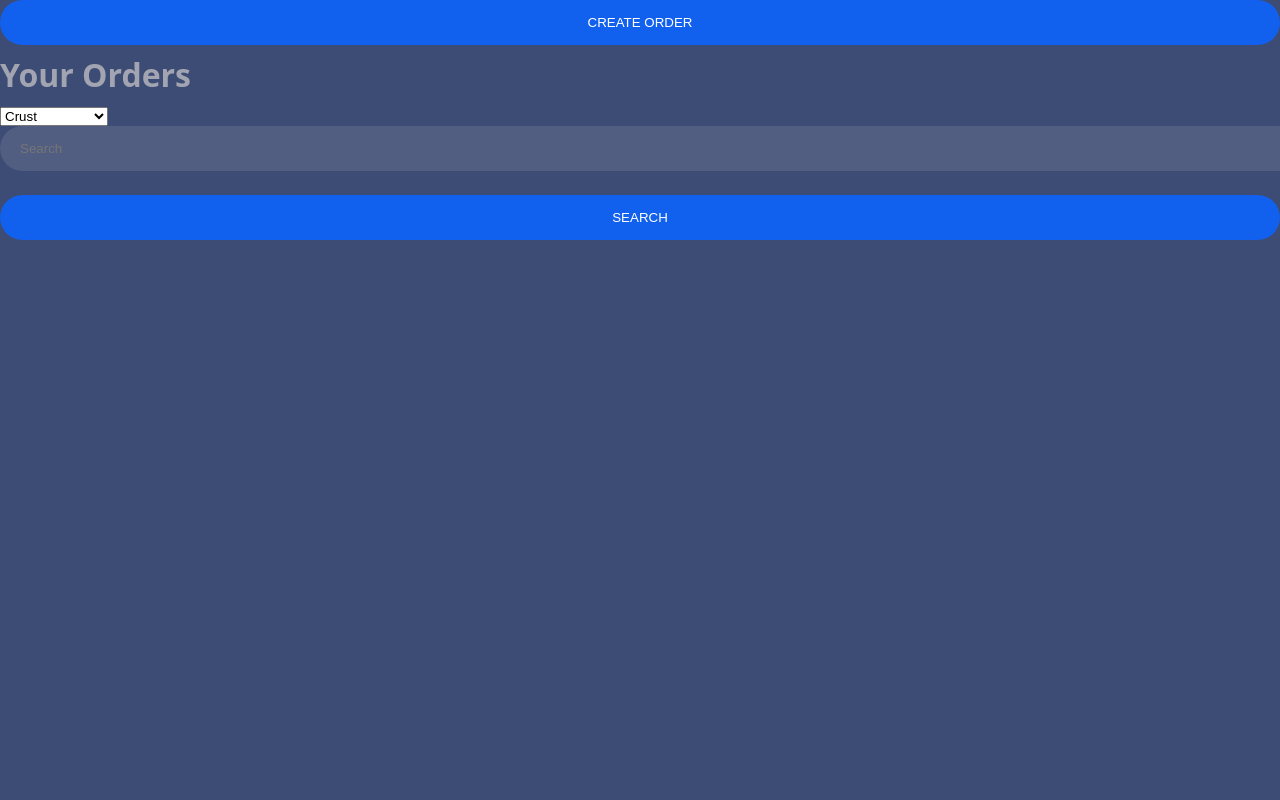
Test: order modal is launched on order button click
Click the button "Create Order" at (640, 22), box top-left (0, 0), bottom-right (1279, 45)
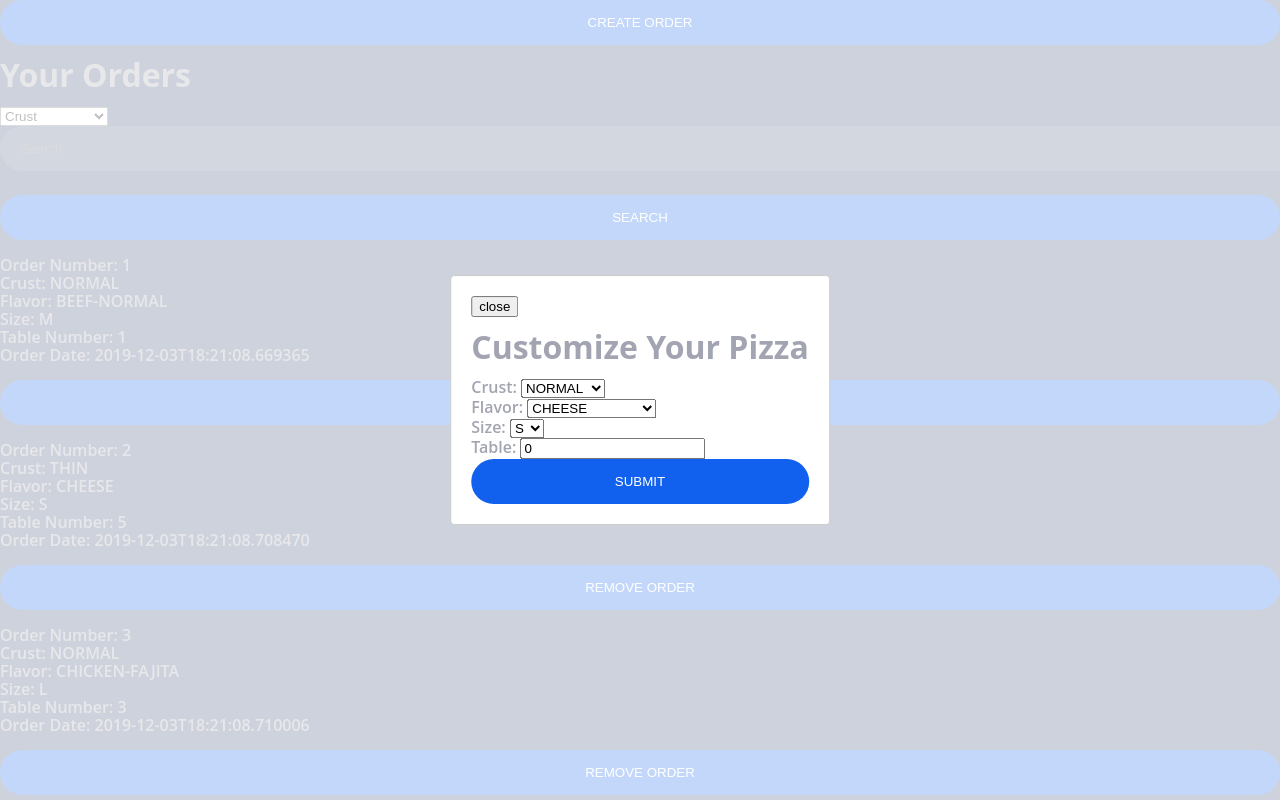
Expected: the heading "Customize Your Pizza" is shown, top-left (471, 338), bottom-right (809, 356)
